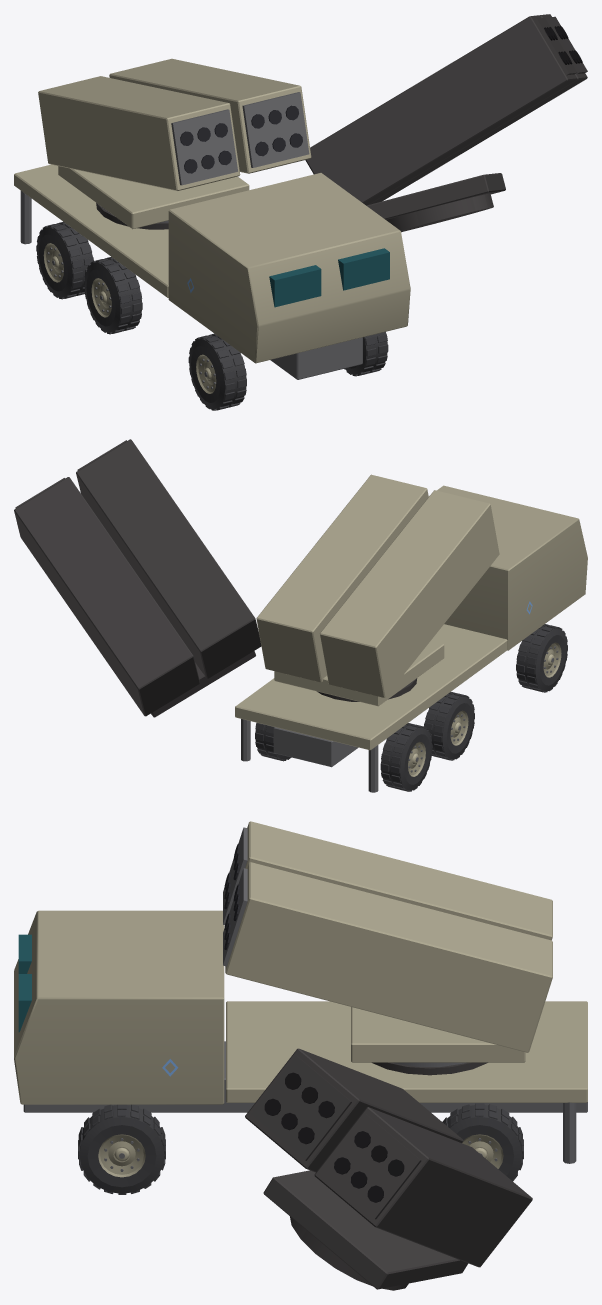
The model's file is mlrs__astros_ii.glb.
The picture shows the model from 3 angles, top to bottom: view 1: azimuth 30°, elevation 25°; view 2: azimuth 150°, elevation 25°; view 3: azimuth 270°, elevation 25°; orthographic projection. The views are drawn at different scales.
Parts seen in each view (by area): view 1: Hull_Mesh, Wreck, Gun_Mesh, Turret_Mesh, Wheel_L1_Mesh, Wheel_L2_Mesh, Wheel_L0_Mesh, Wheel_R2_Mesh; view 2: Wreck, Gun_Mesh, Hull_Mesh, Wheel_L0_Mesh, Wheel_L2_Mesh, Wheel_L1_Mesh, Turret_Mesh, Wheel_R0_Mesh; view 3: Hull_Mesh, Gun_Mesh, Wreck, Wheel_R2_Mesh, Turret_Mesh, Wheel_R0_Mesh.
Part boxes in pixels (x1=…): Hull_Mesh: x1=14, y1=164, x2=410, y2=379; Wreck: x1=53, y1=14, x2=587, y2=409; Gun_Mesh: x1=38, y1=58, x2=311, y2=190; Turret_Mesh: x1=58, y1=166, x2=249, y2=229; Wheel_L1_Mesh: x1=84, y1=257, x2=142, y2=334; Wheel_L2_Mesh: x1=188, y1=333, x2=246, y2=410; Wheel_L0_Mesh: x1=36, y1=221, x2=93, y2=299; Wheel_R2_Mesh: x1=344, y1=331, x2=388, y2=376; Wreck: x1=14, y1=439, x2=549, y2=789; Gun_Mesh: x1=256, y1=474, x2=499, y2=697; Hull_Mesh: x1=235, y1=485, x2=587, y2=792; Wheel_L0_Mesh: x1=380, y1=723, x2=432, y2=791; Wheel_L2_Mesh: x1=516, y1=624, x2=567, y2=692; Wheel_L1_Mesh: x1=424, y1=692, x2=474, y2=760; Turret_Mesh: x1=274, y1=641, x2=444, y2=706; Wheel_R0_Mesh: x1=255, y1=723, x2=291, y2=761; Hull_Mesh: x1=14, y1=910, x2=587, y2=1163; Gun_Mesh: x1=223, y1=821, x2=552, y2=1052; Wreck: x1=94, y1=1048, x2=532, y2=1290; Wheel_R2_Mesh: x1=78, y1=1104, x2=165, y2=1194; Turret_Mesh: x1=351, y1=1007, x2=525, y2=1066; Wheel_R0_Mesh: x1=442, y1=1103, x2=523, y2=1181.
Size of what is drawn, in the model's own units: 7.98 by 3.84 by 6.9.
